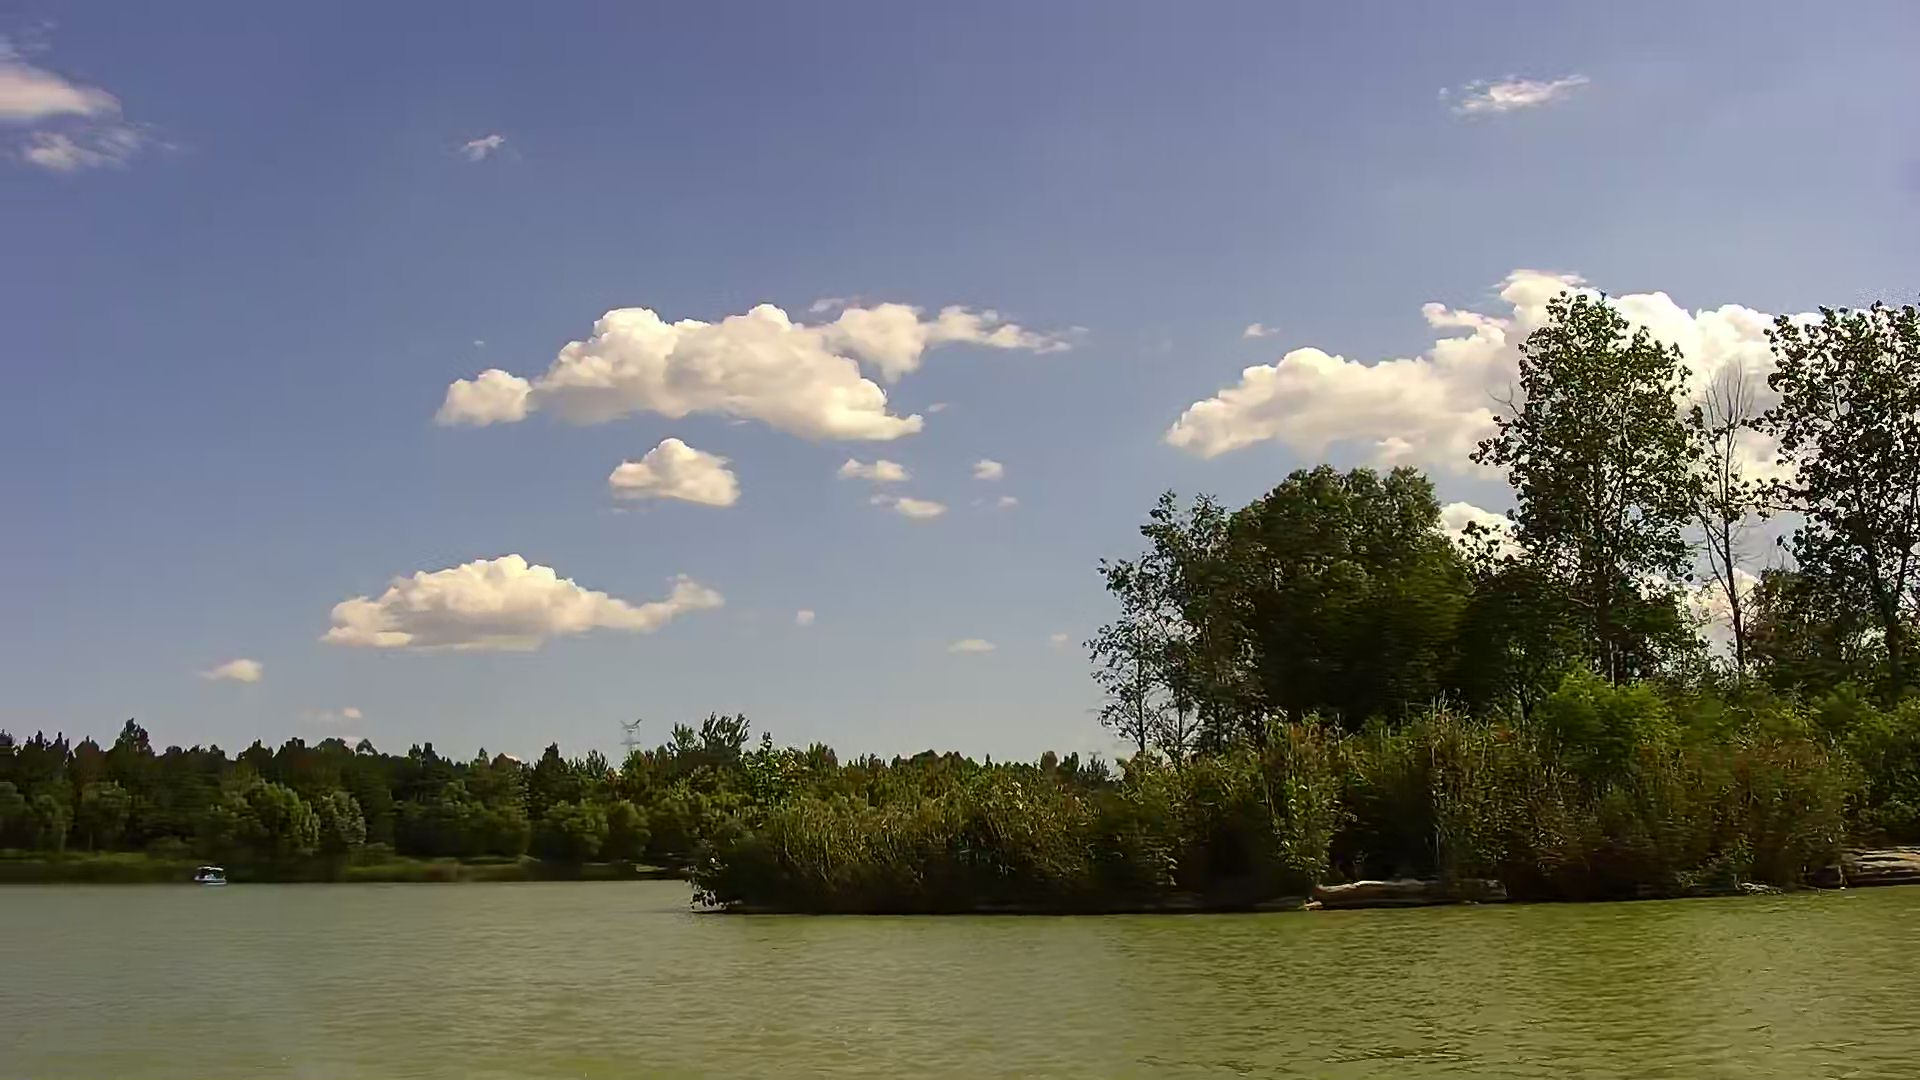boat: (187, 860, 233, 884)
